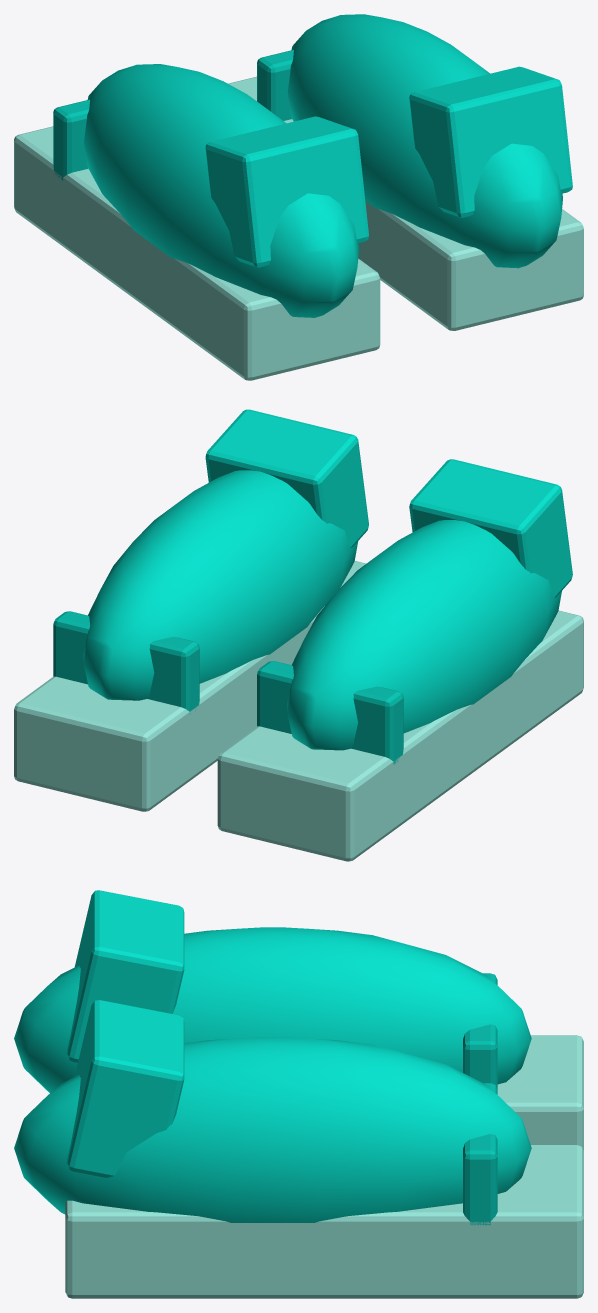
File: VM-CAL-9910.glb
The picture shows the model from 3 angles, top to bottom: view 1: azimuth 30°, elevation 25°; view 2: azimuth 150°, elevation 25°; view 3: azimuth 270°, elevation 25°; orthographic projection. The views are drawn at different scales.
Visible parts, largest first — view 1: Sneakers Platform Cyber; view 2: Sneakers Platform Cyber; view 3: Sneakers Platform Cyber.
Boxes of the visible parts, x1,y1,x2,y2 form: Sneakers Platform Cyber: (14, 14, 583, 380); Sneakers Platform Cyber: (14, 409, 583, 861); Sneakers Platform Cyber: (14, 890, 583, 1298).
Size of the model in its own units: 0.253 by 0.1478 by 0.3227.
